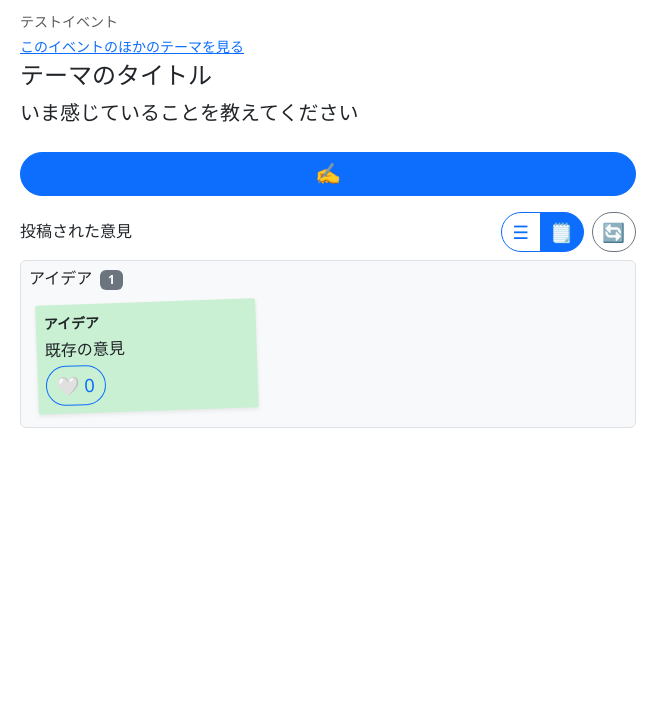
Test: 参加者の画面 › 投稿すると、ボードに戻り、投稿しましたと出て、自分の意見が加わる
Click the link named "意見を投稿する" at (328, 174), box x1=20 y1=152 x2=636 y2=196
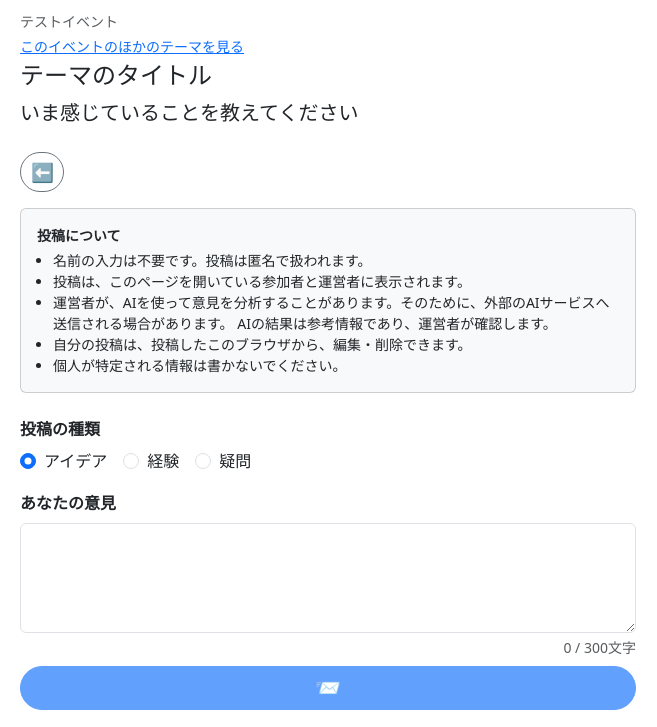
Type "私の意見です" into the text box labelled "あなたの意見" at (328, 578), box x1=20 y1=523 x2=636 y2=633
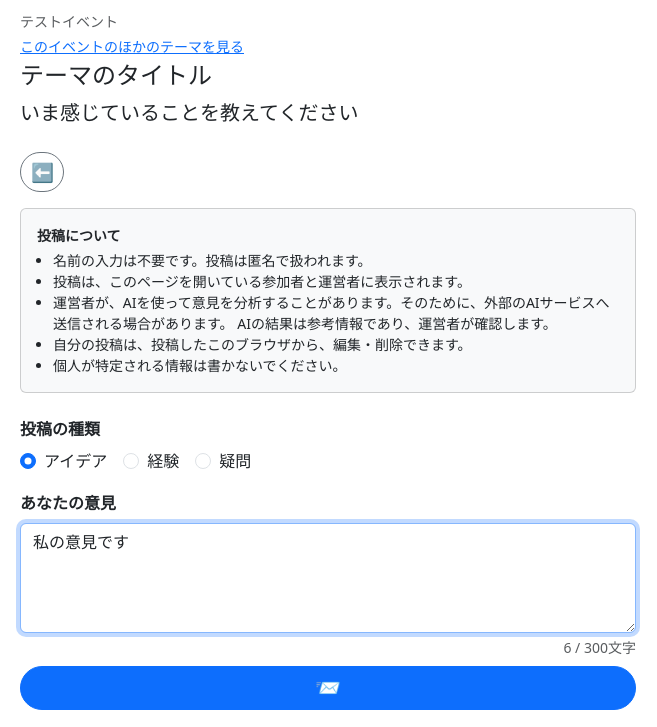
Click the button named "投稿する" at (328, 688), box x1=20 y1=666 x2=636 y2=710
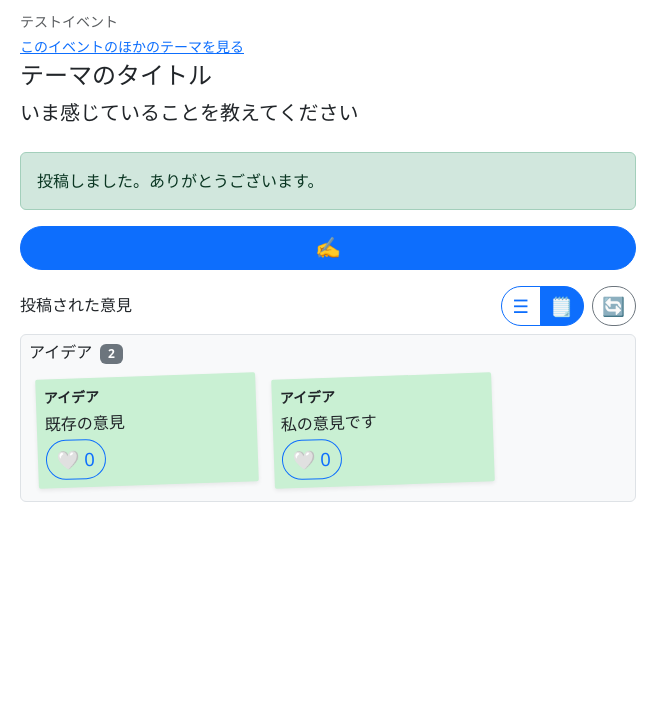
Expected: the text "投稿しました。ありがとうございます。" is shown, x1=20 y1=152 x2=636 y2=210
Expected: the text "私の意見です" is shown, x1=280 y1=410 x2=377 y2=436
Expected: the text "既存の意見" is shown, x1=44 y1=411 x2=125 y2=436
